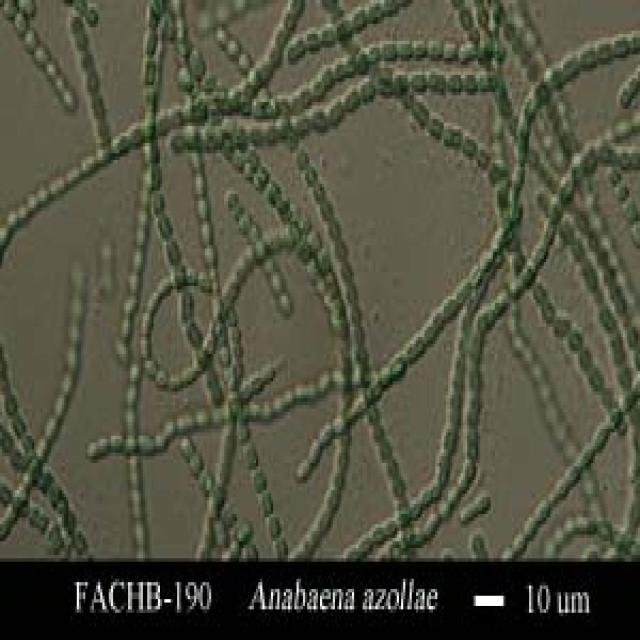Blue Green Algae: (561, 48, 585, 85), (450, 276, 476, 310), (422, 306, 446, 341), (175, 286, 194, 327), (425, 68, 448, 99), (580, 38, 600, 72), (375, 361, 397, 391), (390, 351, 412, 381), (442, 422, 461, 456), (461, 426, 480, 460), (412, 96, 429, 130), (444, 116, 461, 150), (461, 130, 478, 164), (271, 89, 290, 119), (591, 426, 610, 456), (512, 157, 529, 190), (136, 429, 154, 460), (390, 68, 408, 99), (426, 109, 444, 140), (458, 500, 476, 531), (24, 456, 40, 490), (595, 34, 612, 65), (546, 194, 563, 225), (145, 163, 164, 190), (111, 133, 130, 160), (130, 245, 149, 272), (303, 228, 322, 255), (51, 392, 68, 422), (465, 392, 482, 422), (296, 456, 314, 484), (326, 95, 342, 126), (138, 58, 156, 85), (266, 514, 284, 541), (406, 337, 424, 364), (534, 497, 552, 524), (358, 75, 374, 105), (554, 310, 570, 340), (616, 388, 636, 412), (143, 136, 160, 164), (476, 140, 490, 174), (610, 34, 632, 55), (28, 504, 45, 531), (350, 7, 367, 34), (384, 453, 401, 480), (610, 333, 623, 368), (243, 150, 258, 180), (166, 238, 182, 266), (296, 146, 312, 174), (49, 521, 62, 555), (314, 106, 331, 132), (444, 392, 461, 418), (10, 412, 26, 439), (426, 38, 444, 62), (532, 238, 550, 262), (563, 459, 580, 484), (344, 82, 358, 112), (243, 442, 258, 470), (288, 34, 305, 58), (305, 27, 322, 51), (320, 20, 337, 44), (254, 490, 271, 514), (382, 518, 399, 542), (448, 68, 463, 95), (307, 439, 322, 466), (237, 419, 252, 446), (512, 531, 527, 558), (623, 198, 638, 225), (371, 422, 386, 449), (589, 368, 604, 395), (318, 422, 331, 453), (456, 41, 476, 61), (250, 466, 266, 491), (266, 180, 280, 208), (237, 518, 252, 544), (578, 348, 593, 374), (168, 102, 184, 126), (282, 10, 298, 34), (442, 38, 458, 62), (312, 177, 328, 201), (150, 188, 164, 215), (410, 68, 424, 95), (280, 198, 294, 225), (568, 324, 582, 351), (524, 514, 538, 541), (273, 23, 288, 48), (96, 143, 111, 167), (45, 418, 60, 442), (308, 75, 326, 95), (397, 34, 412, 58), (356, 531, 371, 555), (369, 521, 384, 545), (335, 242, 350, 266), (254, 163, 267, 190), (476, 494, 493, 514), (463, 72, 476, 98), (156, 211, 170, 235), (540, 300, 554, 324), (604, 160, 618, 184), (614, 180, 628, 204), (408, 497, 422, 521), (438, 500, 452, 524), (190, 452, 203, 477), (88, 439, 100, 466), (79, 153, 94, 174), (128, 364, 143, 385), (179, 436, 192, 460), (341, 262, 354, 286), (382, 41, 397, 61), (412, 37, 426, 58), (156, 109, 168, 133), (328, 218, 342, 238), (320, 248, 331, 272), (418, 487, 431, 507), (169, 368, 179, 392), (128, 272, 139, 293)
